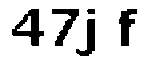4: (9, 5, 46, 49)
7: (49, 5, 80, 46)
f: (116, 7, 143, 50)
j: (78, 6, 104, 60)
